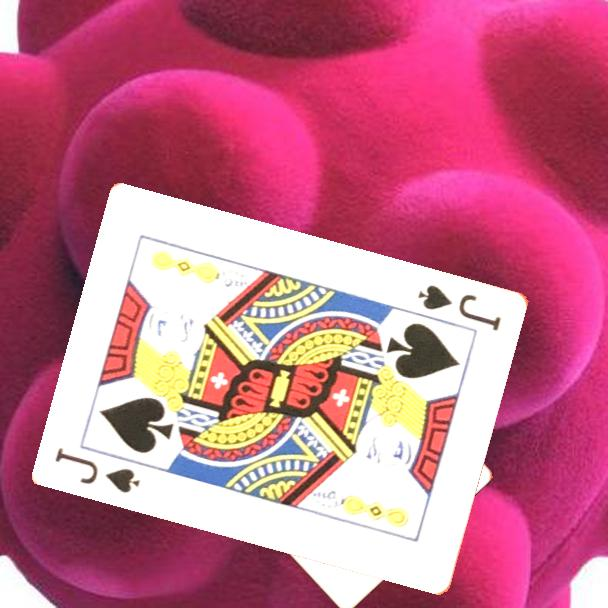s11: (52, 443, 144, 496), (415, 281, 505, 334)
